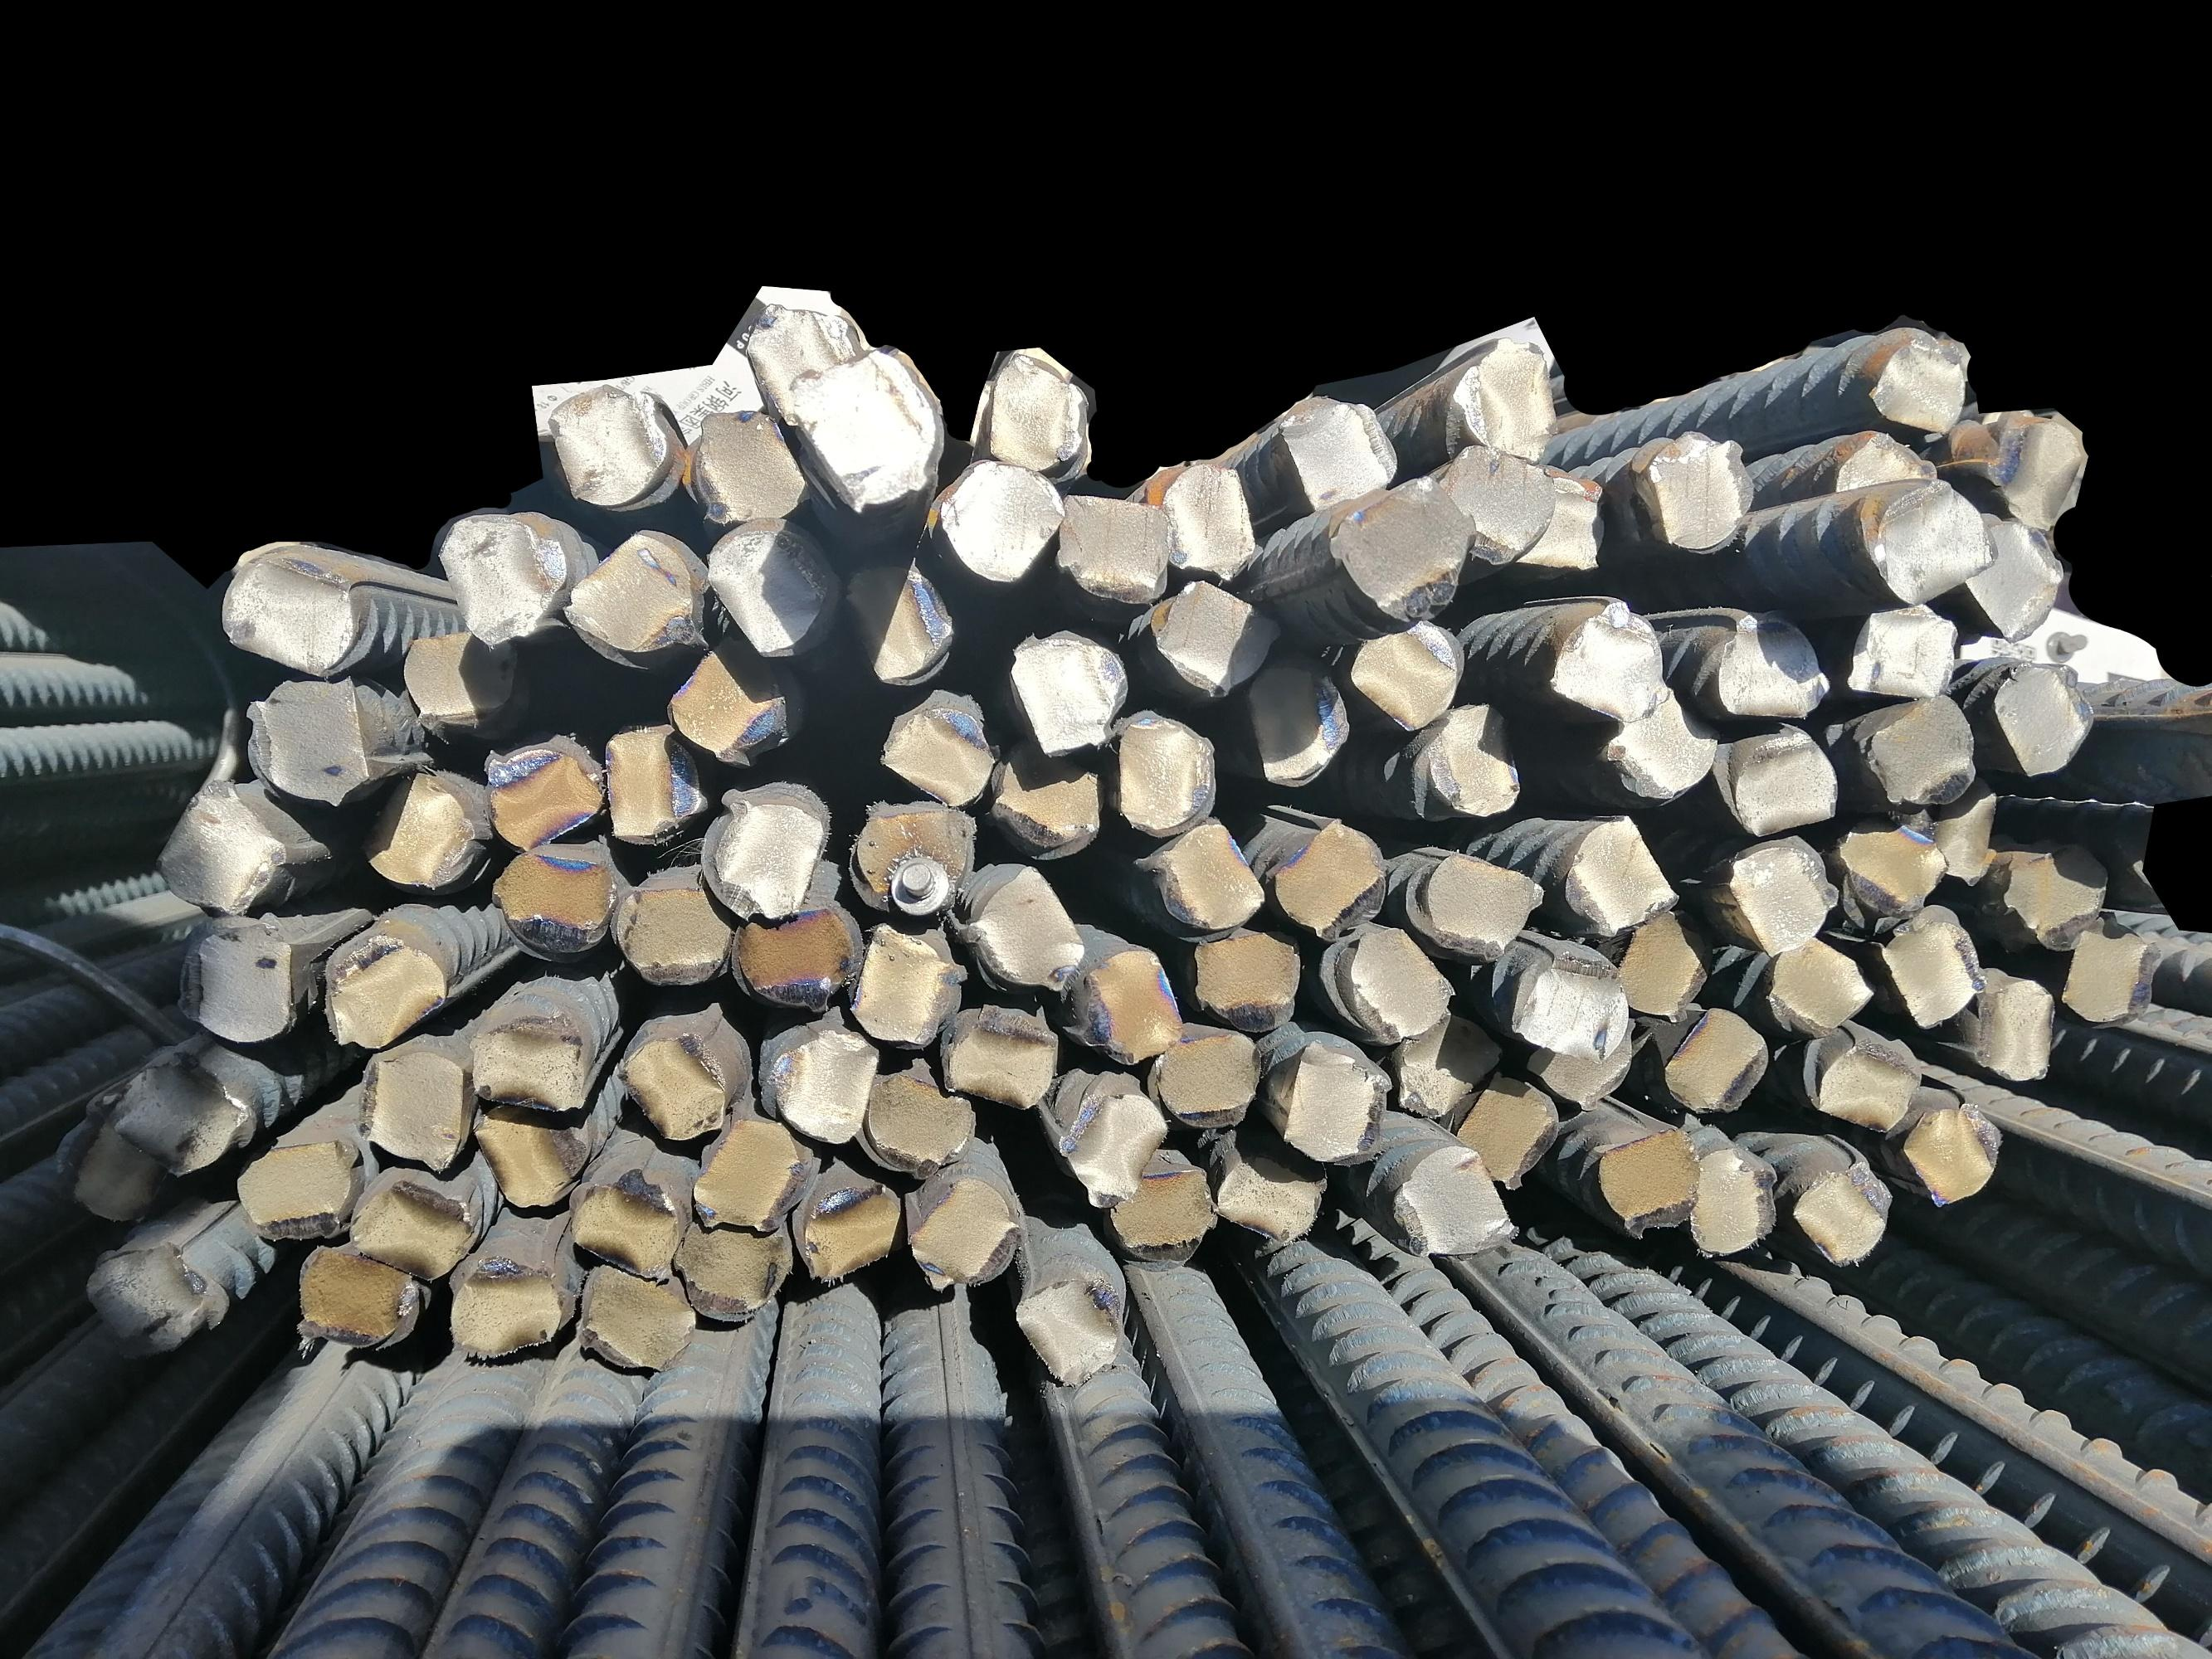bar: (786, 345, 941, 505), (78, 1236, 235, 1366), (225, 540, 368, 674), (694, 789, 830, 925), (1339, 477, 1468, 620), (931, 451, 1065, 587), (847, 795, 981, 927), (708, 519, 828, 660), (563, 530, 694, 657), (1433, 436, 1560, 566), (242, 676, 371, 803), (441, 512, 568, 641), (153, 784, 274, 918), (173, 918, 295, 1049), (837, 561, 959, 692), (106, 1058, 242, 1175), (321, 934, 455, 1049), (1863, 488, 1998, 603), (357, 762, 478, 887), (662, 634, 788, 755), (1110, 709, 1229, 836), (1272, 814, 1389, 943), (1278, 390, 1400, 512), (492, 840, 621, 955), (1389, 1143, 1520, 1256), (570, 1260, 702, 1371), (1269, 1040, 1389, 1162), (744, 301, 861, 427), (1004, 634, 1126, 753), (851, 922, 964, 1049), (1963, 505, 2067, 643), (971, 866, 1082, 995), (56, 1103, 169, 1229), (607, 873, 734, 985), (729, 901, 858, 1011), (546, 392, 666, 509), (1555, 598, 1670, 720), (990, 735, 1103, 859), (1157, 582, 1281, 695), (347, 1176, 474, 1286), (1056, 490, 1175, 606), (1642, 432, 1757, 552), (1150, 817, 1267, 934), (1452, 343, 1565, 464), (1605, 678, 1717, 800), (356, 1046, 465, 1169), (1077, 939, 1185, 1065), (692, 410, 811, 523), (1349, 617, 1469, 728), (467, 1101, 589, 1211), (228, 1140, 363, 1239), (1147, 464, 1262, 579), (1710, 605, 1825, 720), (596, 725, 709, 842), (1726, 723, 1839, 840), (483, 739, 601, 850), (617, 1028, 729, 1147), (443, 1258, 570, 1361), (1867, 688, 1977, 807), (1140, 1023, 1260, 1131), (1243, 666, 1351, 786), (1452, 1073, 1560, 1194), (302, 1243, 418, 1352), (769, 1030, 879, 1147), (1989, 660, 2099, 777), (675, 1218, 793, 1326), (1612, 904, 1712, 1030), (1342, 925, 1455, 1035), (1564, 824, 1677, 934), (1727, 847, 1841, 955), (1410, 709, 1523, 817), (690, 1117, 797, 1232), (983, 354, 1086, 472), (1422, 850, 1544, 950), (1590, 1122, 1700, 1232), (1016, 1276, 1124, 1387), (565, 1175, 680, 1279), (1513, 958, 1632, 1060), (1874, 918, 1980, 1030), (474, 1012, 587, 1117), (1391, 1014, 1504, 1119), (1848, 601, 1963, 704), (1062, 1086, 1163, 1202), (912, 1180, 1018, 1290), (1659, 1006, 1769, 1112), (2005, 843, 2114, 950), (1185, 929, 1299, 1030), (401, 627, 518, 725), (941, 1009, 1058, 1107), (865, 1068, 976, 1169), (882, 697, 985, 805), (1513, 458, 1607, 573), (1112, 1161, 1211, 1269), (1903, 1100, 2003, 1208), (1809, 1037, 1919, 1134), (1687, 1141, 1780, 1255), (1215, 1152, 1330, 1243), (1794, 1161, 1890, 1269), (1771, 939, 1877, 1035), (1987, 416, 2081, 525), (805, 1182, 903, 1284), (1837, 826, 1947, 915), (1867, 333, 1964, 432), (2064, 927, 2158, 1025), (1924, 775, 2005, 889), (1830, 427, 1945, 505), (1973, 976, 2059, 1080), (1527, 1030, 1632, 1105)
